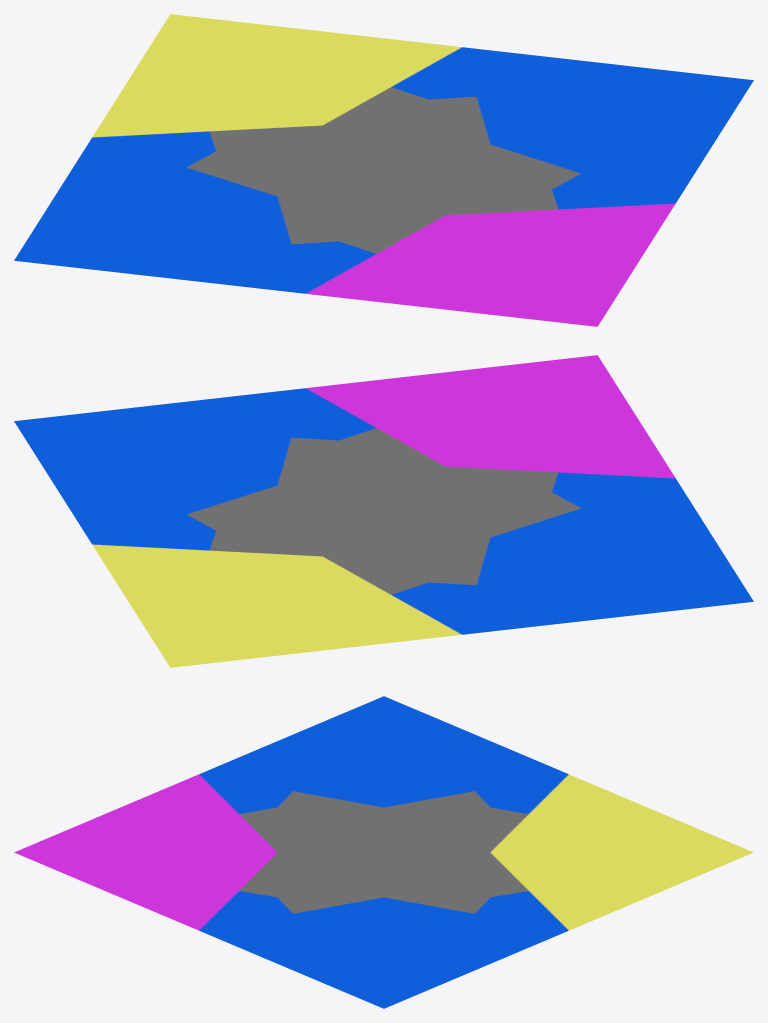
The model's file is paper-bird-2.glb.
3 views of the same model, one above another, from view 1: azimuth 30°, elevation 25°; view 2: azimuth 150°, elevation 25°; view 3: azimuth 270°, elevation 25° (orthographic). The views are drawn at different scales.
Visible parts, largest first — view 1: Paper; view 2: Paper; view 3: Paper.
Part boxes in pixels (x1,y1,x2,y2): Paper: (14,14,753,326); Paper: (14,355,753,667); Paper: (14,696,753,1008).
Bounding box in the file's own units: 28.28 × 3.58e-07 × 28.28.
1 material, 1 textured.
